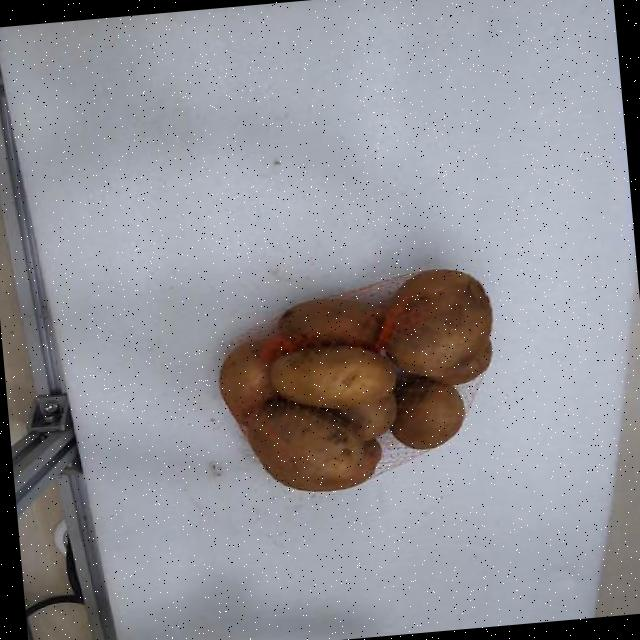potato: (378, 269, 490, 384), (243, 399, 379, 491), (269, 345, 394, 408), (278, 297, 384, 348), (391, 378, 464, 449), (219, 340, 273, 423), (337, 393, 396, 440)
